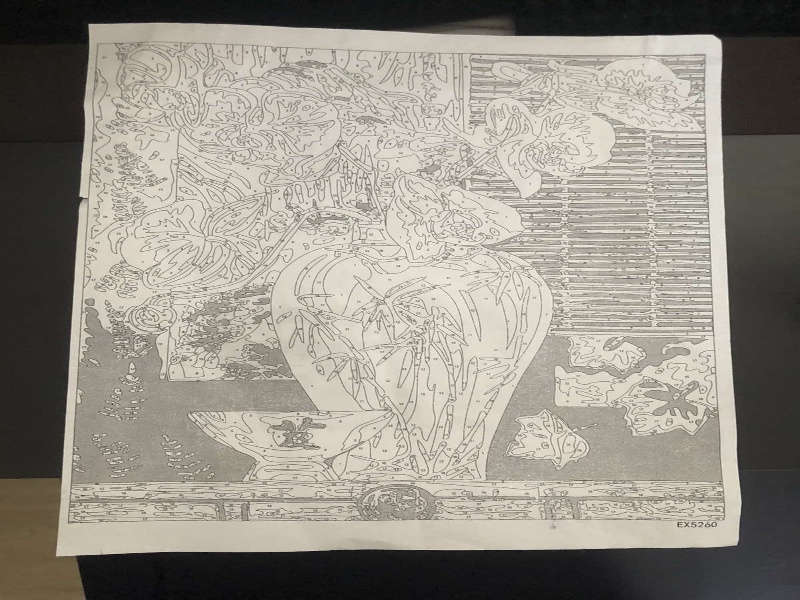document: (55, 20, 740, 556)
